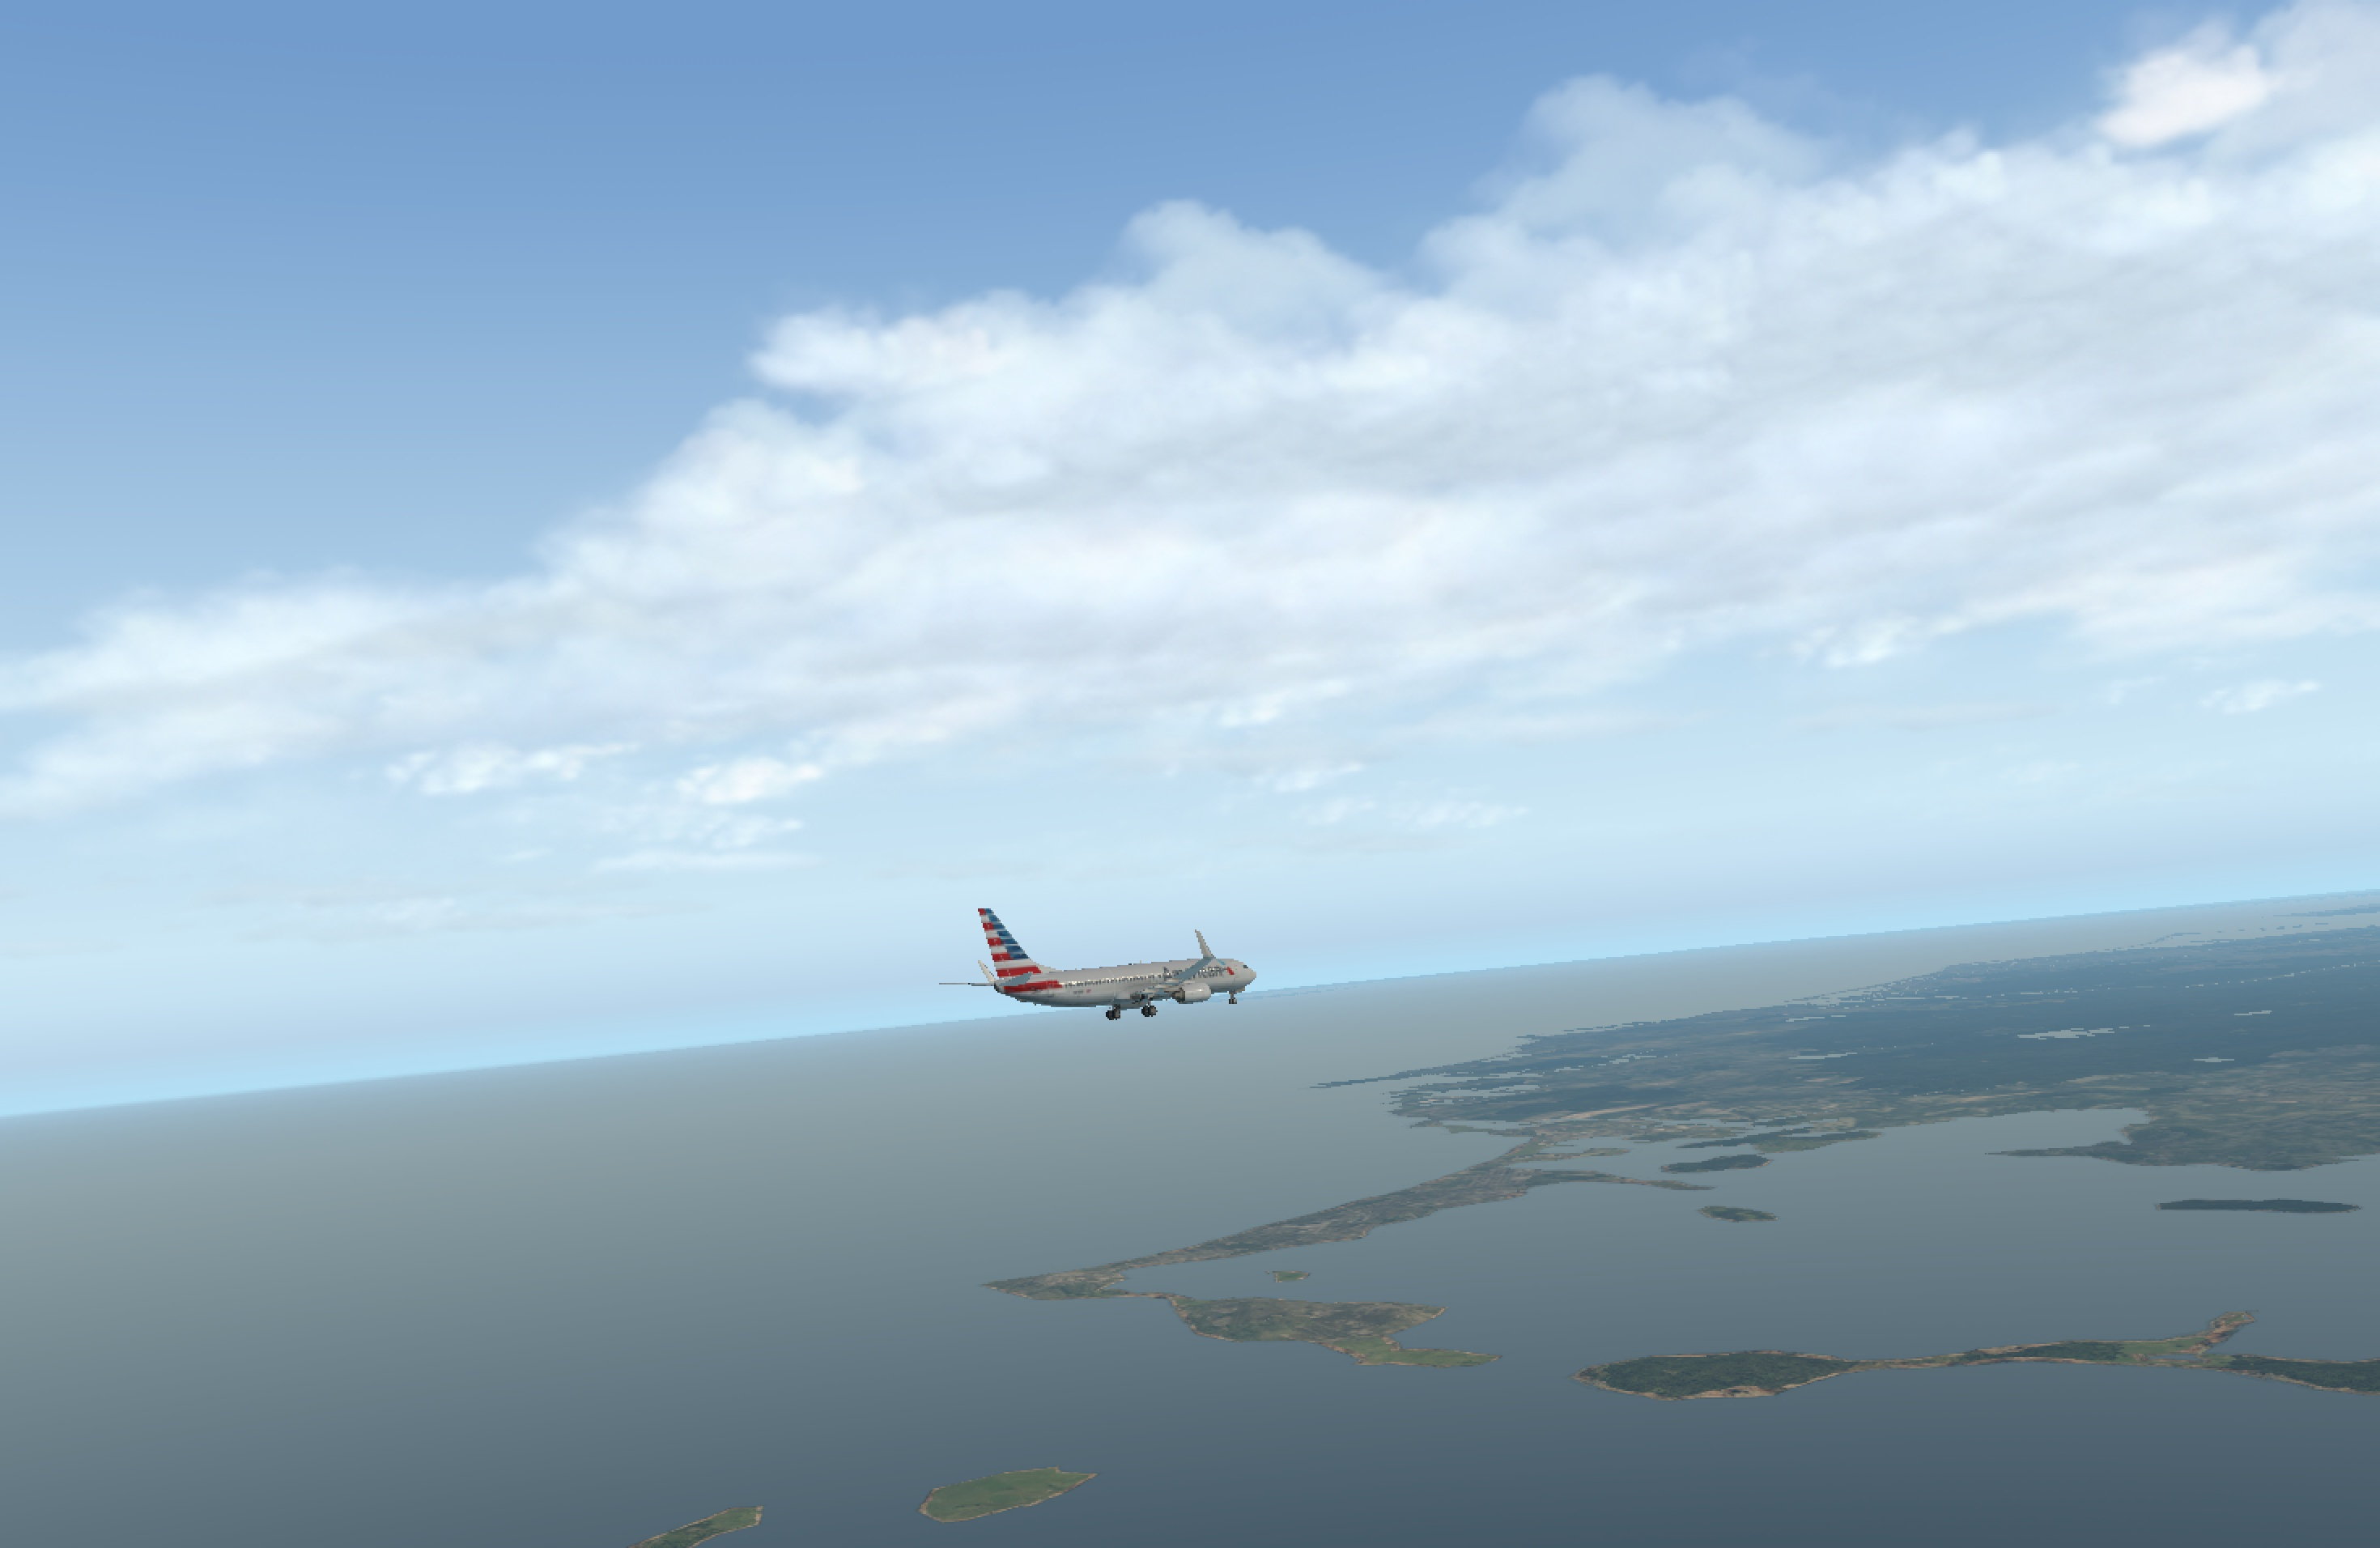aircraft: (956, 920, 1322, 1057)
